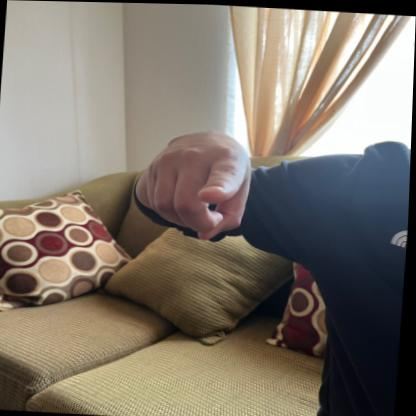X: (128, 124, 256, 244)
